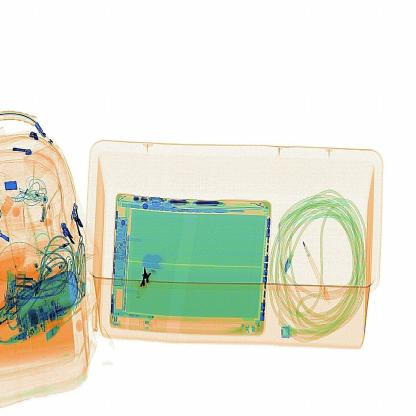gun: (132, 258, 164, 304)
